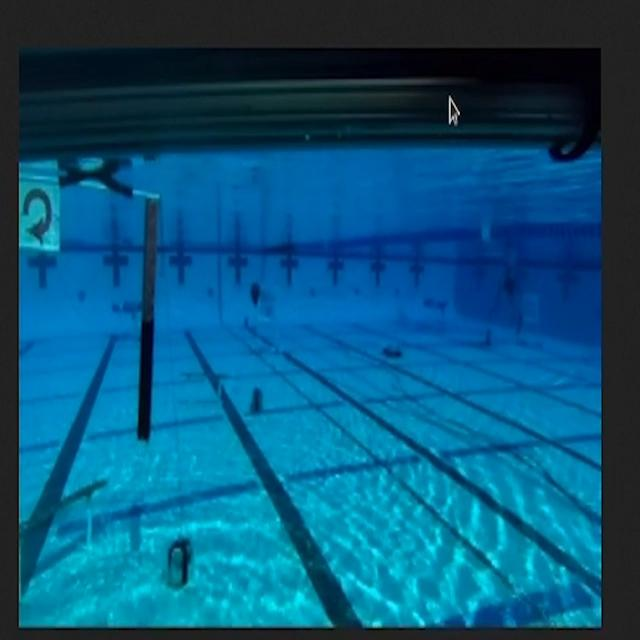Gate: (18, 159, 165, 450)
